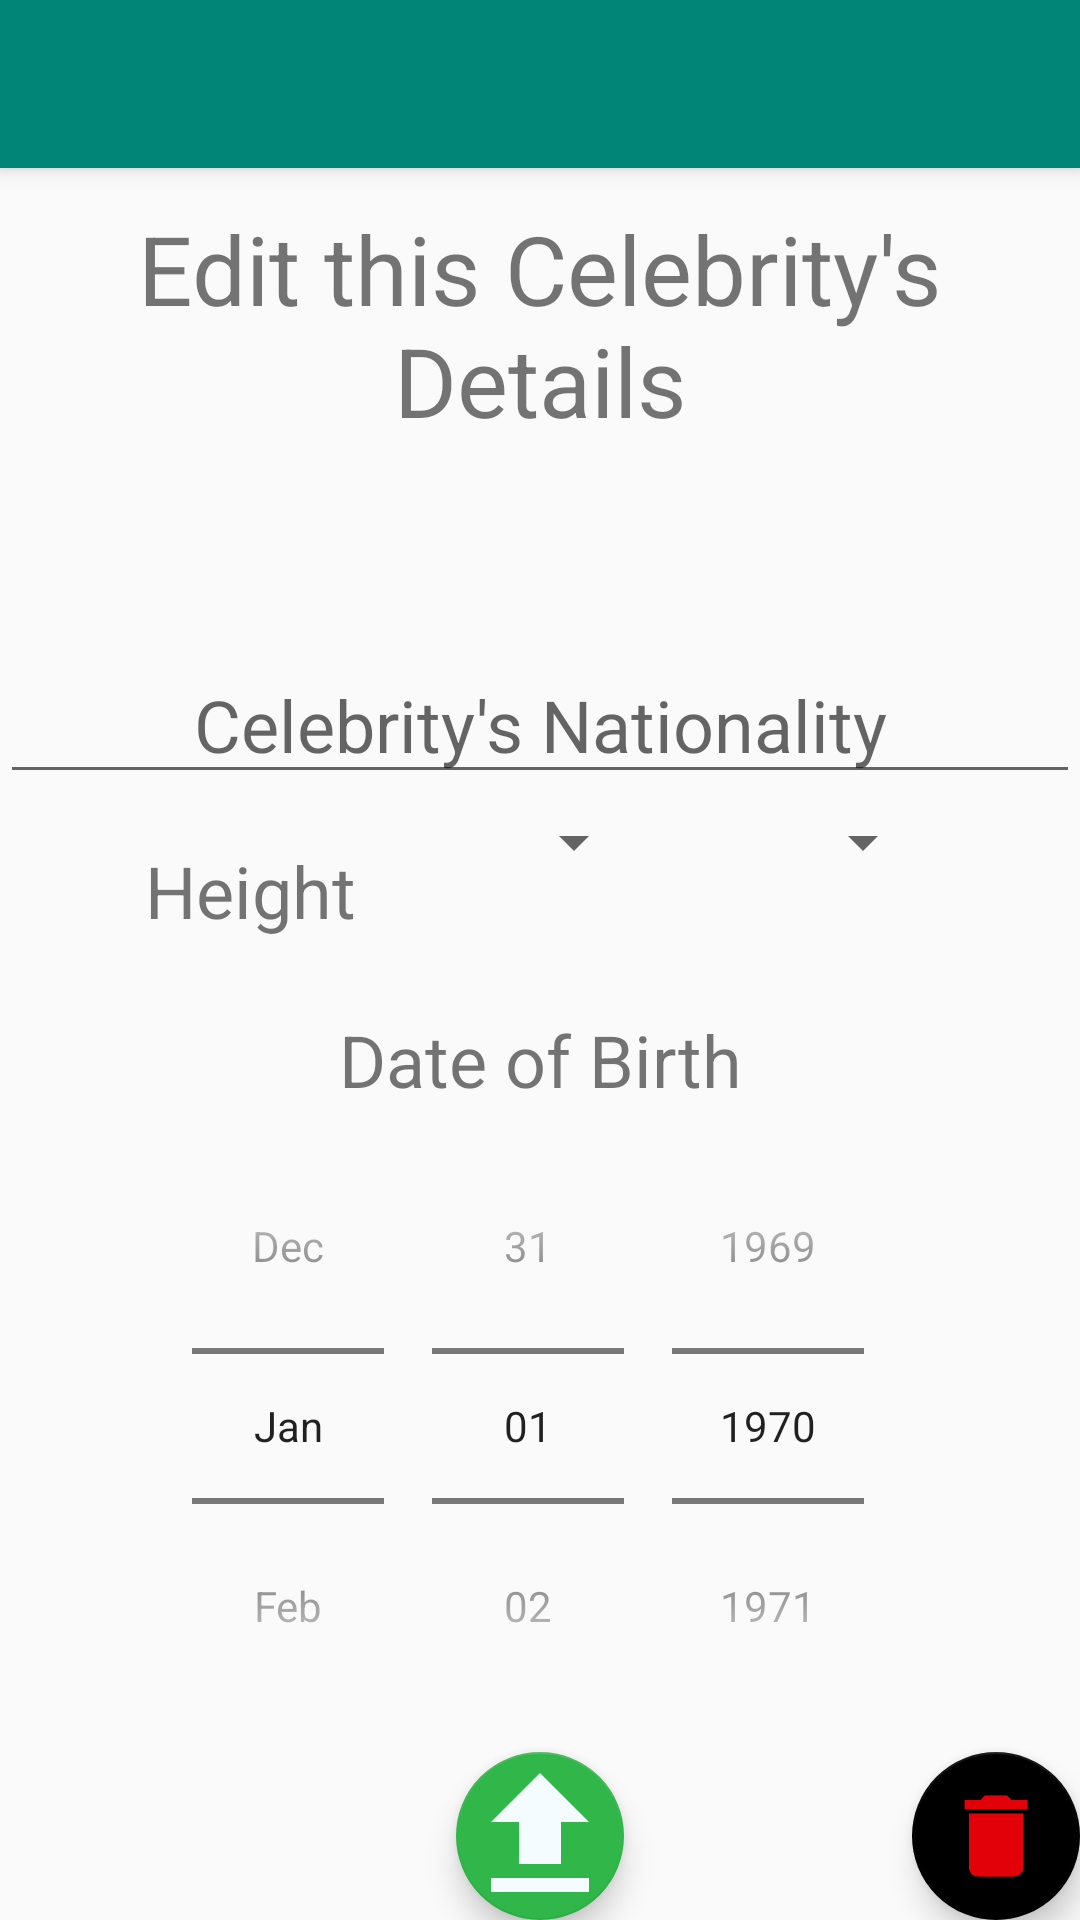

Named icons in this screenshot (1080×1920) and their bounding boxes, detection(x1, y1, x2, y2):
delete: detection(912, 1752, 1080, 1920)
update: detection(456, 1752, 624, 1920)
